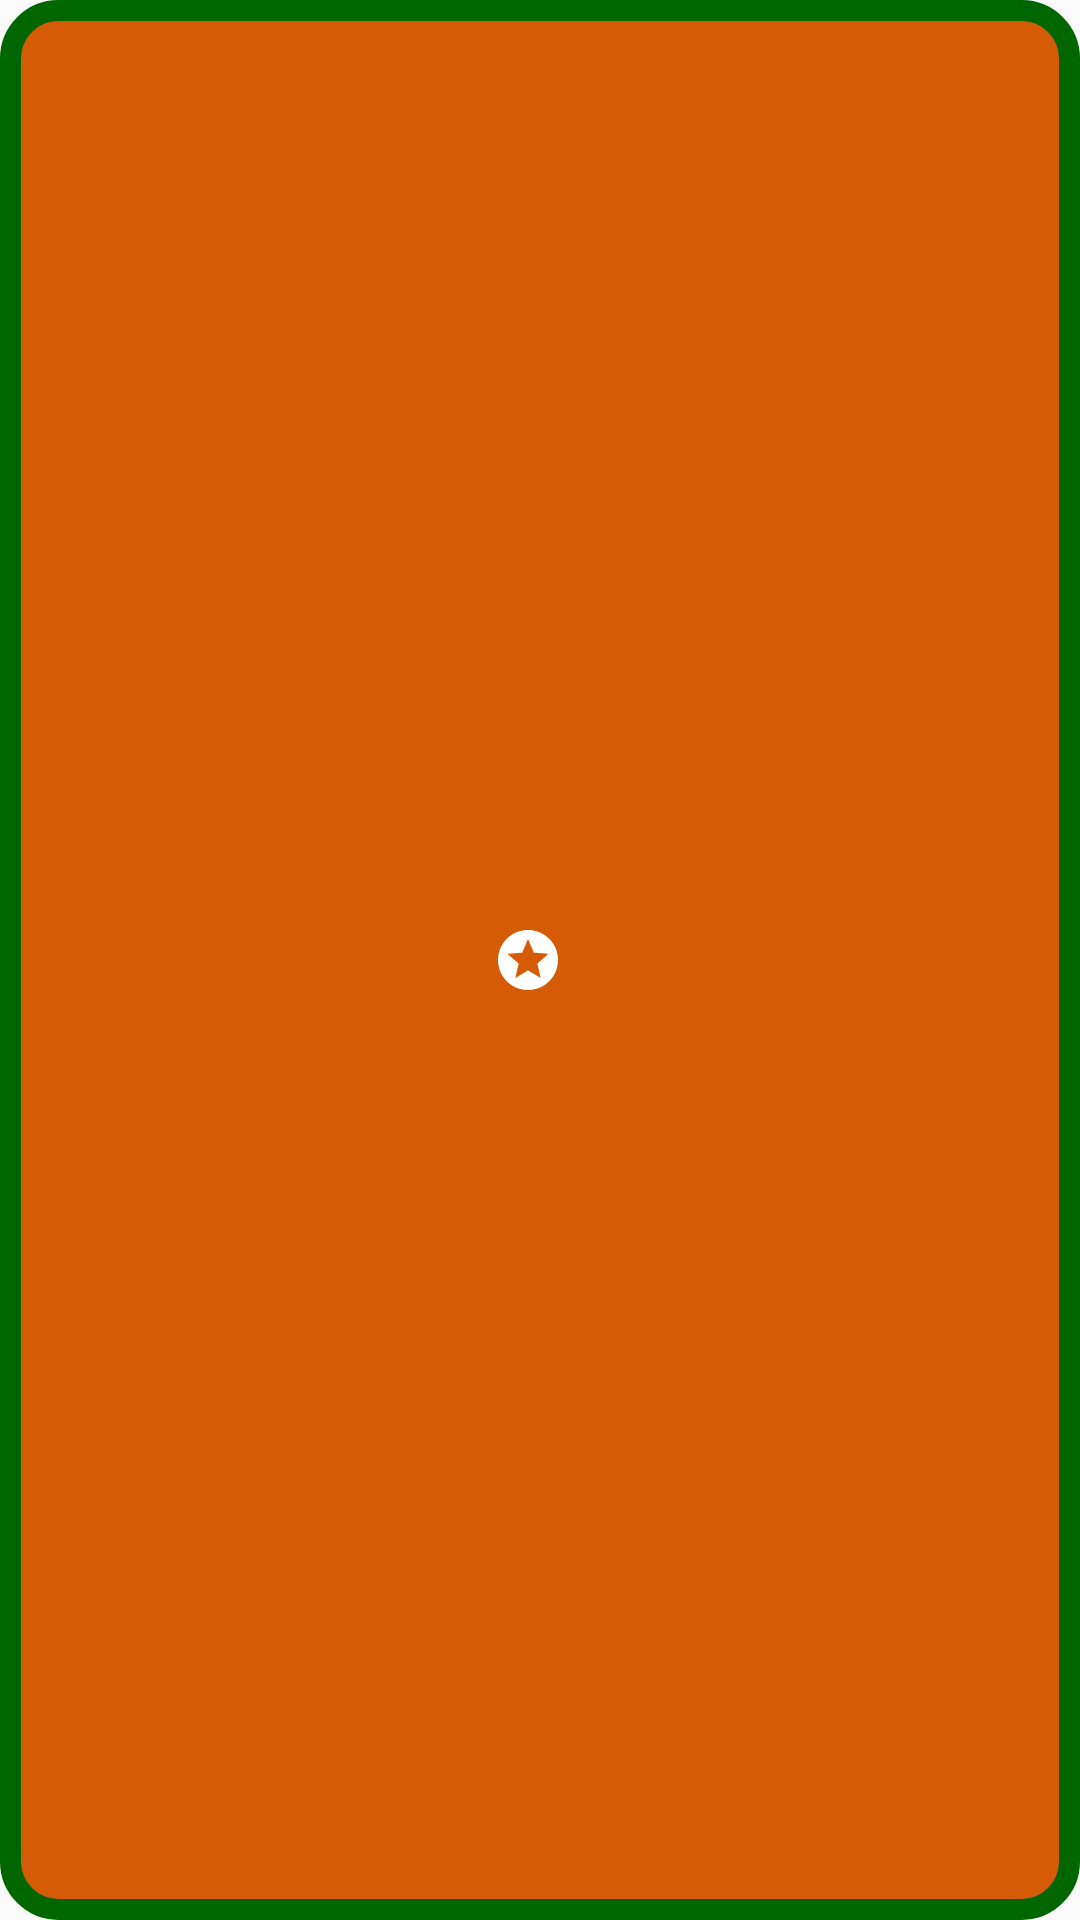

Where to tap for icons on this 1080 × 1920 app screen, as (x=x, y=y):
toasticon stars: (x=528, y=960)
